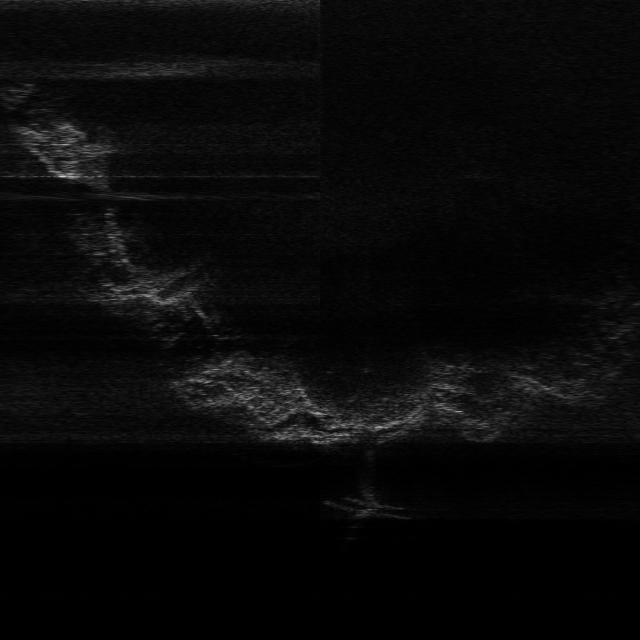plane: (321, 494, 413, 524)
